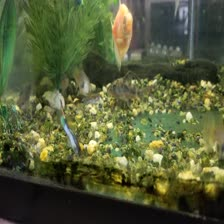Guppy: (53, 110, 86, 159), (70, 61, 93, 99)
Kiros: (106, 70, 156, 108)
Plano: (103, 0, 137, 63)
